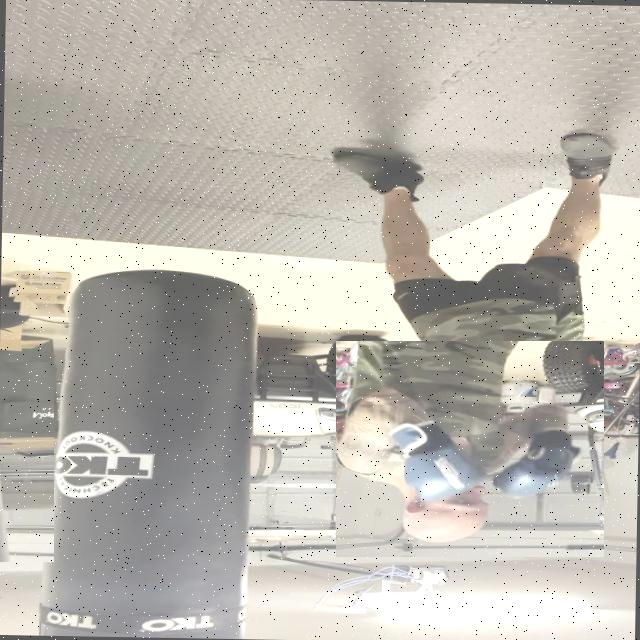punch: (336, 341, 604, 557), (0, 362, 54, 562)
